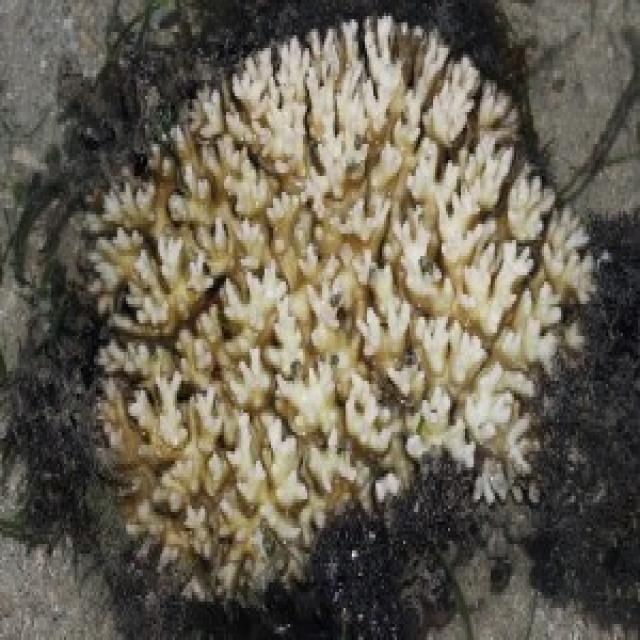Bleached: (88, 17, 594, 596)
